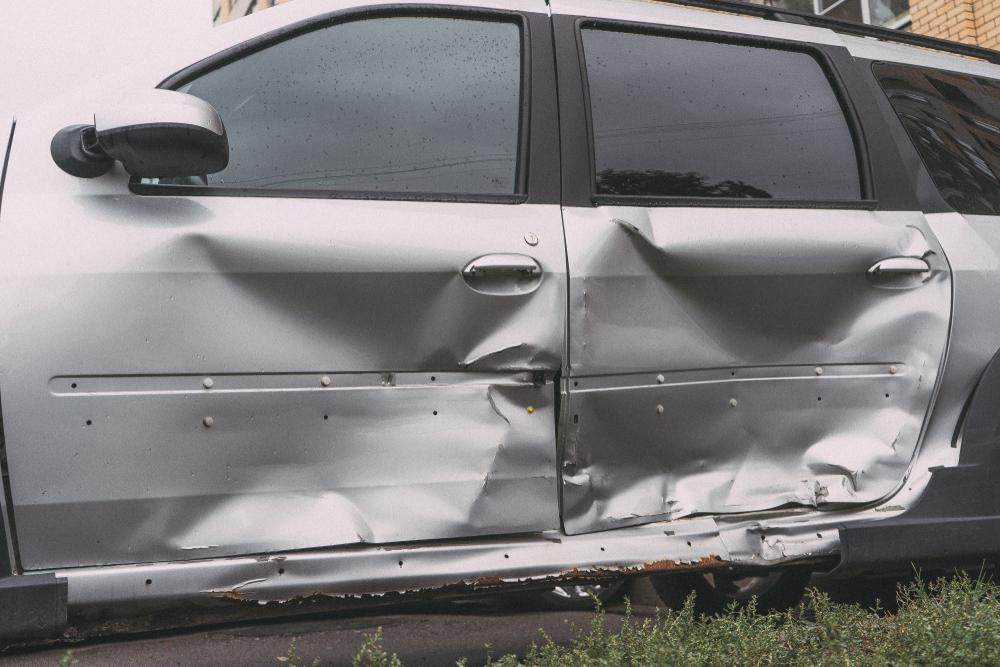dent: (96, 235, 563, 549), (560, 222, 955, 532)
